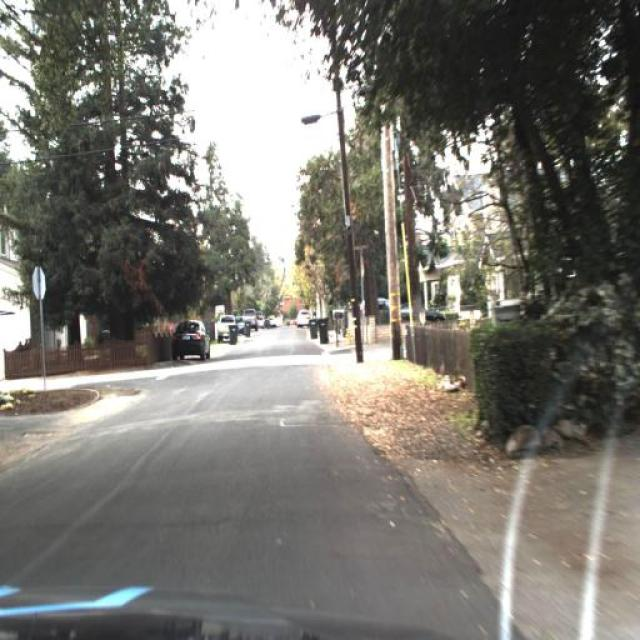car: (172, 314, 210, 368), (170, 317, 214, 361), (399, 306, 448, 329), (365, 296, 401, 319), (216, 309, 238, 342), (243, 309, 258, 332), (236, 317, 250, 341), (295, 308, 311, 328)
